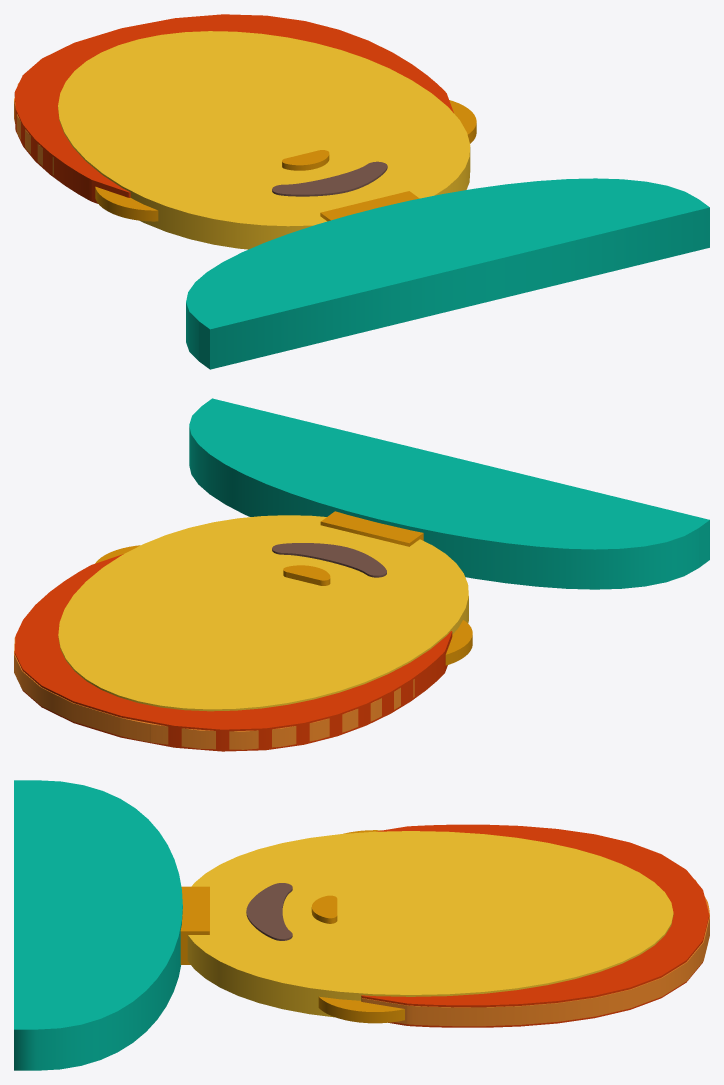
The model's file is emoji_u1f468_200d_1f9b0.glb.
The picture shows the model from 3 angles, top to bottom: view 1: azimuth 30°, elevation 25°; view 2: azimuth 150°, elevation 25°; view 3: azimuth 270°, elevation 25°; orthographic projection. The views are drawn at different scales.
Visible parts, largest first — view 1: emoji_u1f468_200d_1f9b0; view 2: emoji_u1f468_200d_1f9b0; view 3: emoji_u1f468_200d_1f9b0.
Part boxes in pixels (x1,y1,x2,y2): emoji_u1f468_200d_1f9b0: [14, 14, 709, 369]; emoji_u1f468_200d_1f9b0: [14, 398, 709, 751]; emoji_u1f468_200d_1f9b0: [14, 780, 709, 1070].
Bounding box in the file's own units: 0.0286 × 0.0022 × 0.0337.
